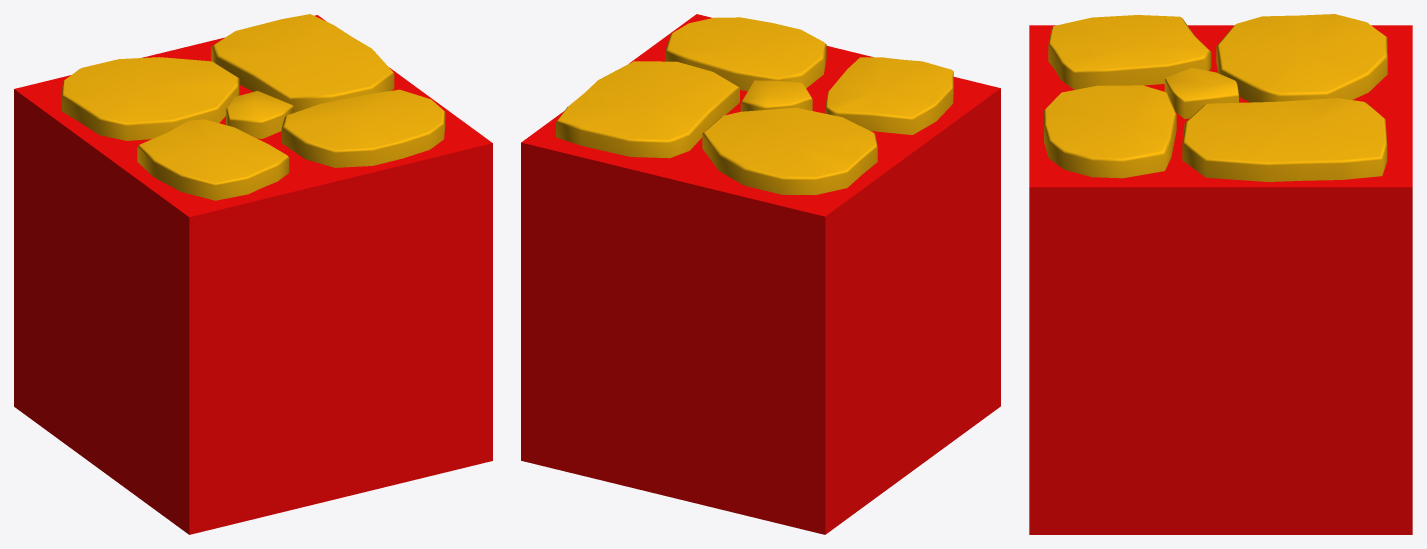
File: swamp_square_low.fbx
3 renders of one model, left to right at view 1: azimuth 30°, elevation 25°; view 2: azimuth 150°, elevation 25°; view 3: azimuth 270°, elevation 25°, orthographic. The views are drawn at different scales.
Parts seen in each view (by area): view 1: pCube15, pCube45, pCube44, pCube46, pCube48, pCube47; view 2: pCube15, pCube45, pCube44, pCube46, pCube48, pCube47; view 3: pCube15, pCube45, pCube44, pCube46, pCube48, pCube47.
Part boxes in pixels (x1=…): pCube15: x1=14, y1=15, x2=492, y2=534; pCube45: x1=211, y1=14, x2=394, y2=112; pCube44: x1=61, y1=57, x2=239, y2=140; pCube46: x1=281, y1=89, x2=445, y2=167; pCube48: x1=137, y1=119, x2=289, y2=200; pCube47: x1=226, y1=91, x2=293, y2=138; pCube15: x1=521, y1=14, x2=1000, y2=534; pCube45: x1=556, y1=61, x2=739, y2=158; pCube44: x1=702, y1=107, x2=877, y2=194; pCube46: x1=665, y1=17, x2=826, y2=90; pCube48: x1=825, y1=57, x2=953, y2=134; pCube47: x1=740, y1=80, x2=812, y2=111; pCube15: x1=1029, y1=25, x2=1412, y2=534; pCube45: x1=1182, y1=98, x2=1387, y2=181; pCube44: x1=1216, y1=14, x2=1387, y2=102; pCube46: x1=1044, y1=85, x2=1176, y2=178; pCube48: x1=1048, y1=15, x2=1211, y2=89; pCube47: x1=1164, y1=68, x2=1238, y2=118.
Size of the model in its own units: 100 by 106 by 100.
